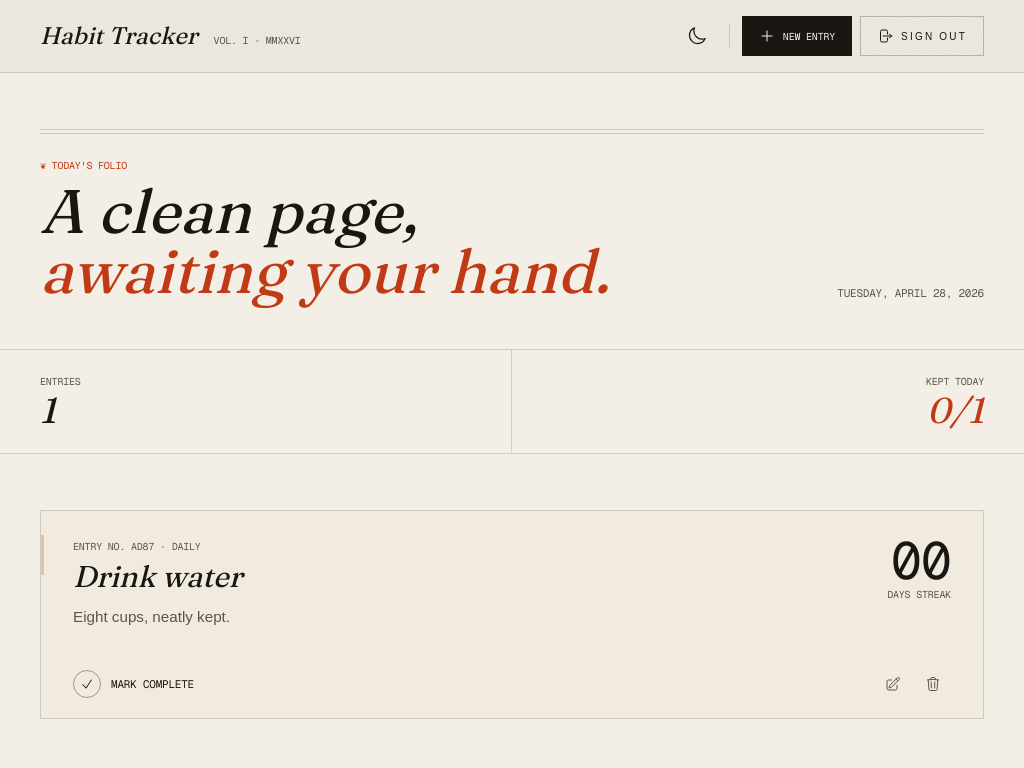
habit form › edits an existing habit and preserves immutable fields
Click the button named "Edit Drink water" at [893, 684], box [875, 666, 911, 702]
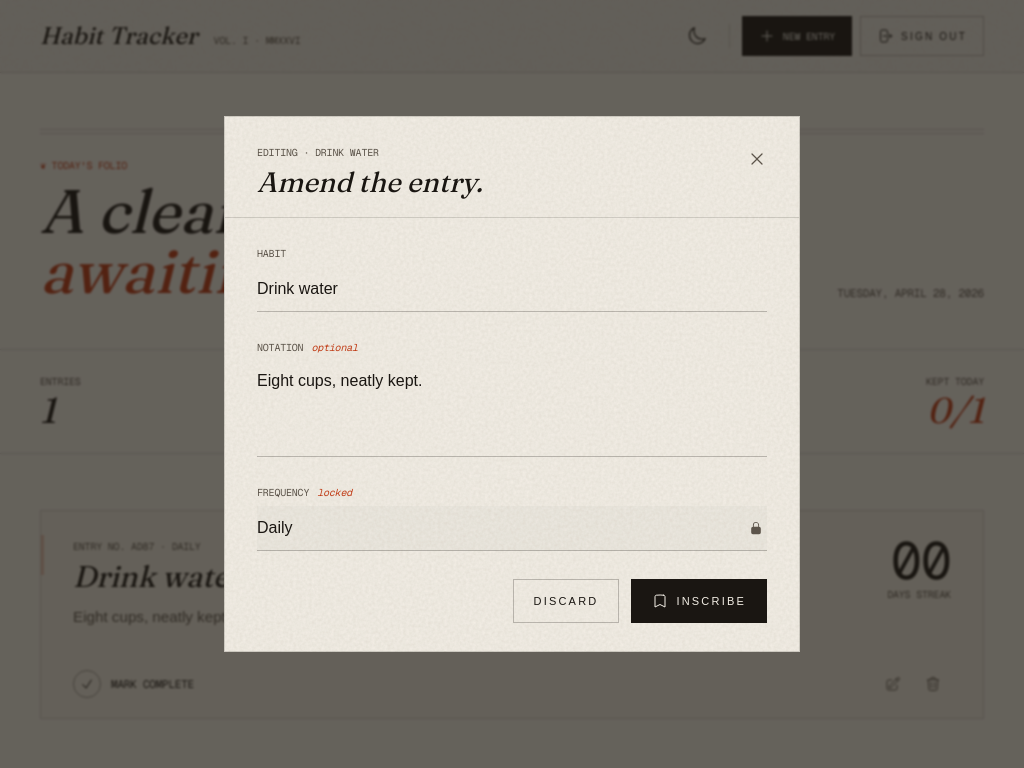
Replace the text in the field with test id "habit-name-input" with "Drink more water" at [512, 289], box [257, 267, 767, 311]
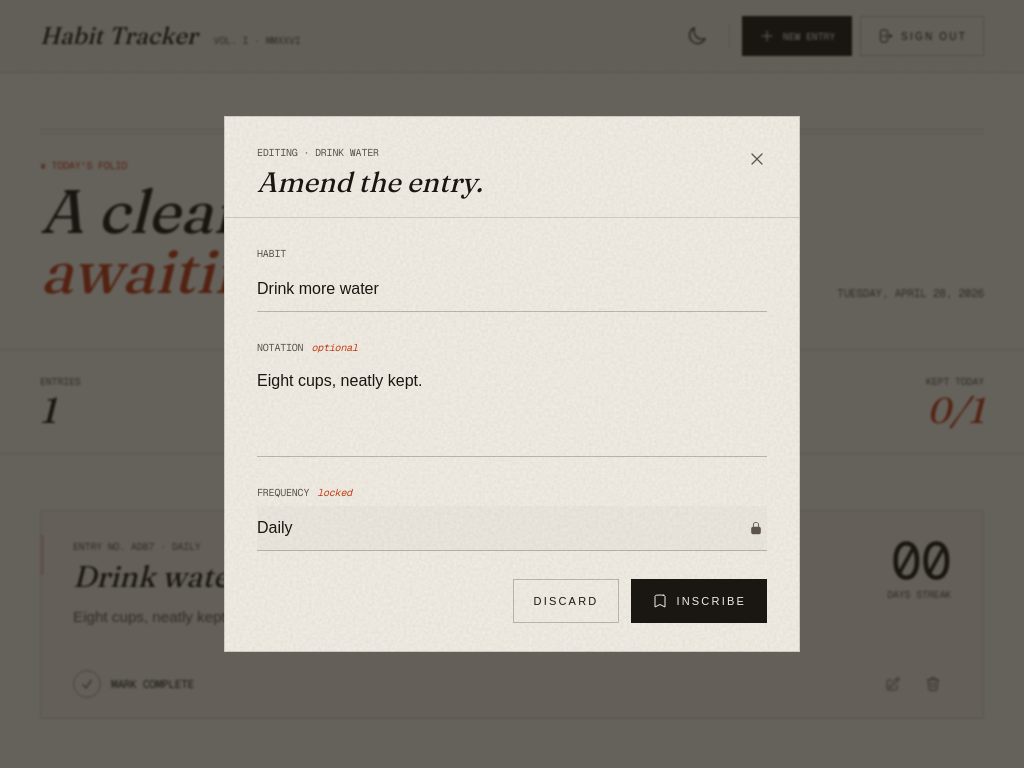
Click the button with test id "habit-save-button" at [699, 601], box [631, 579, 767, 623]
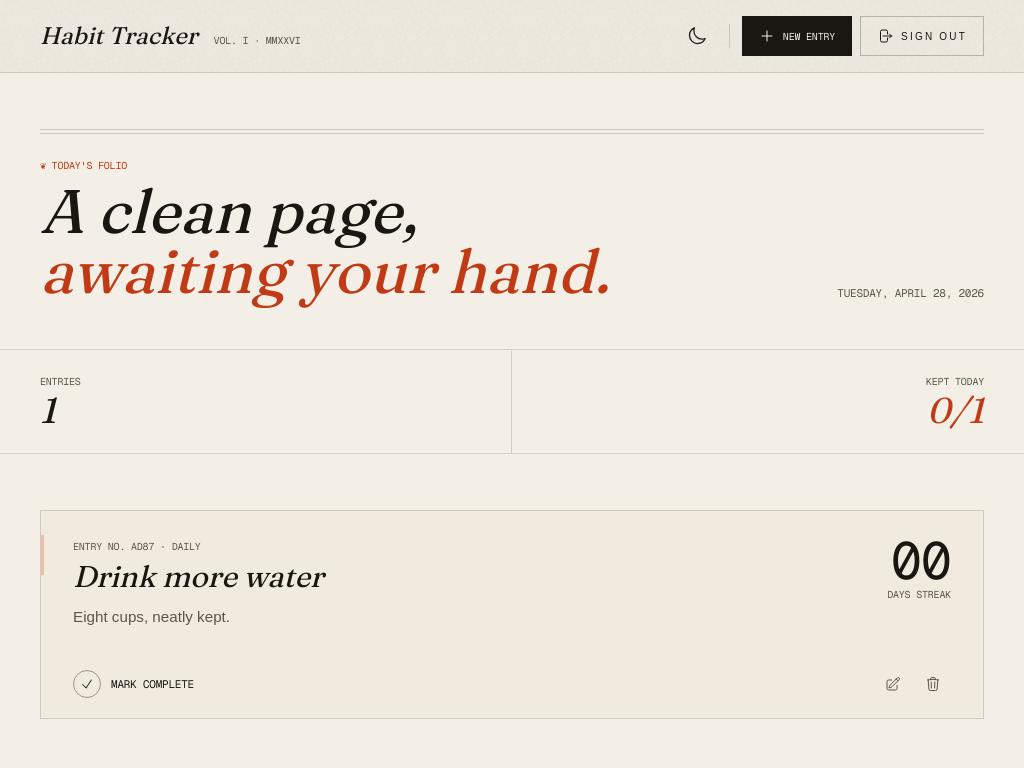
Expected: the heading "Drink more water" is shown, [73, 558, 324, 595]
